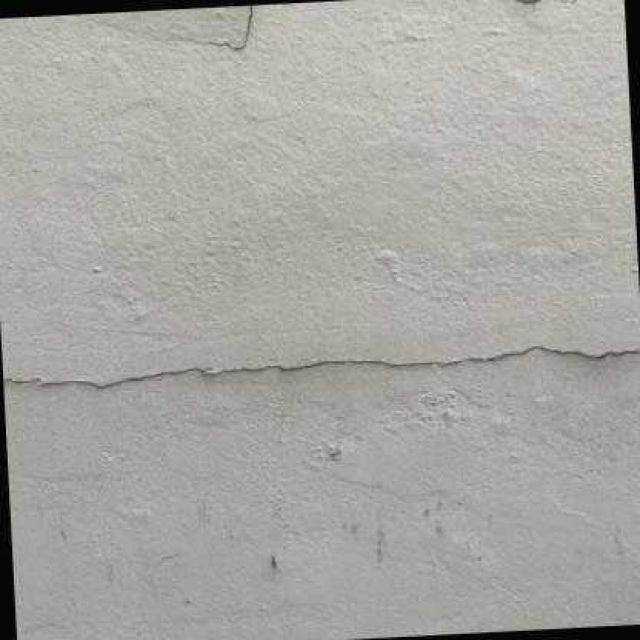D00: (3, 343, 640, 388)
